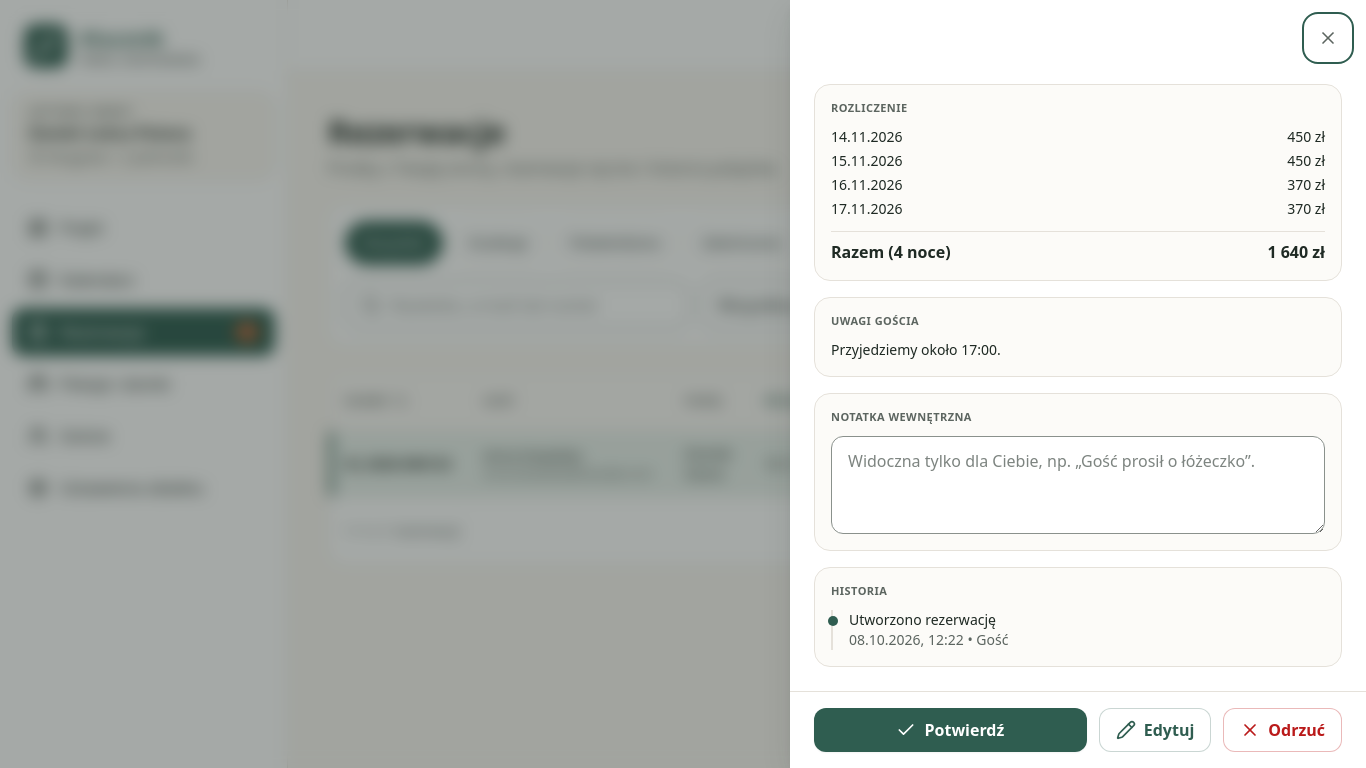
Scenario: ReservationsPage (O4) › saves the internal note with the current version
(page scrolled)
Type "Łóżeczko" into the text box named "Notatka wewnętrzna" at {"x": 1078, "y": 485}, box [831,436,1325,534]
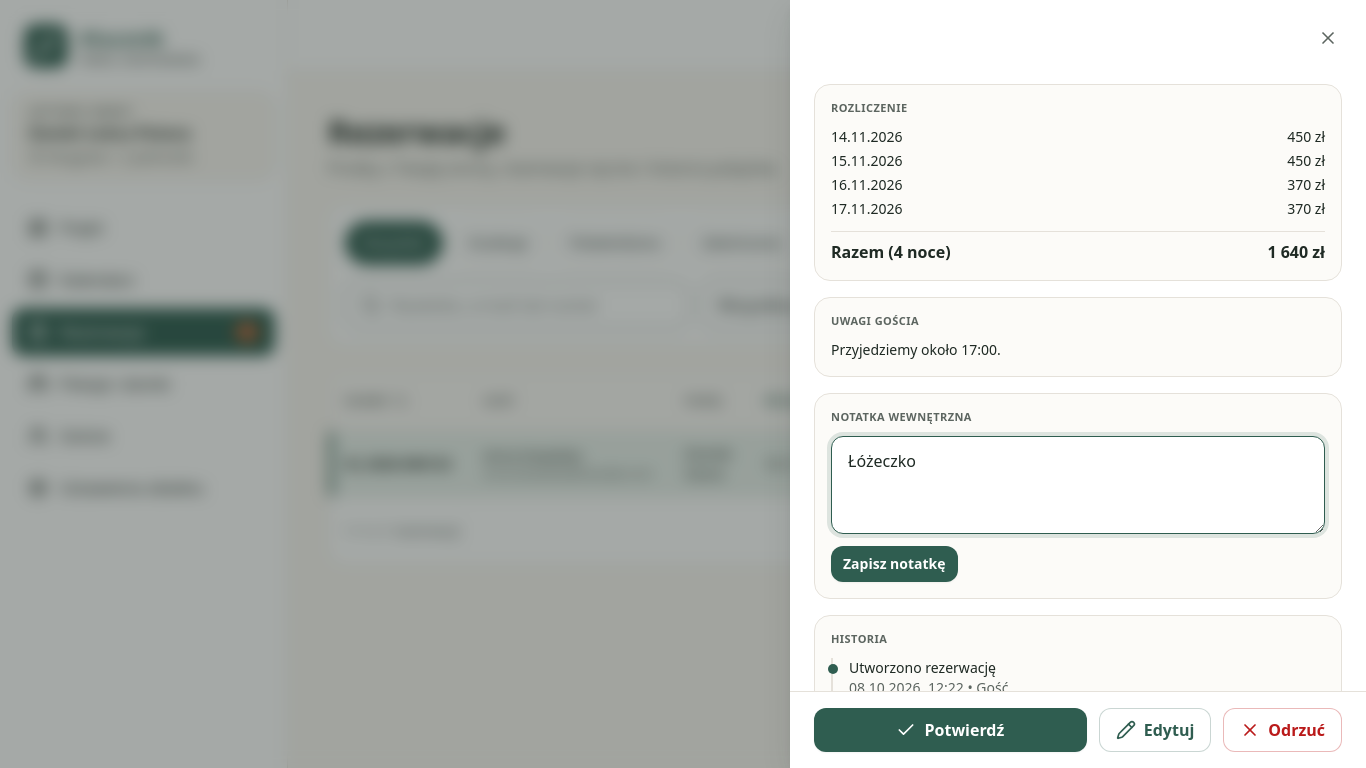
Click the button "Zapisz notatkę" at {"x": 894, "y": 564}, box [831,546,958,582]
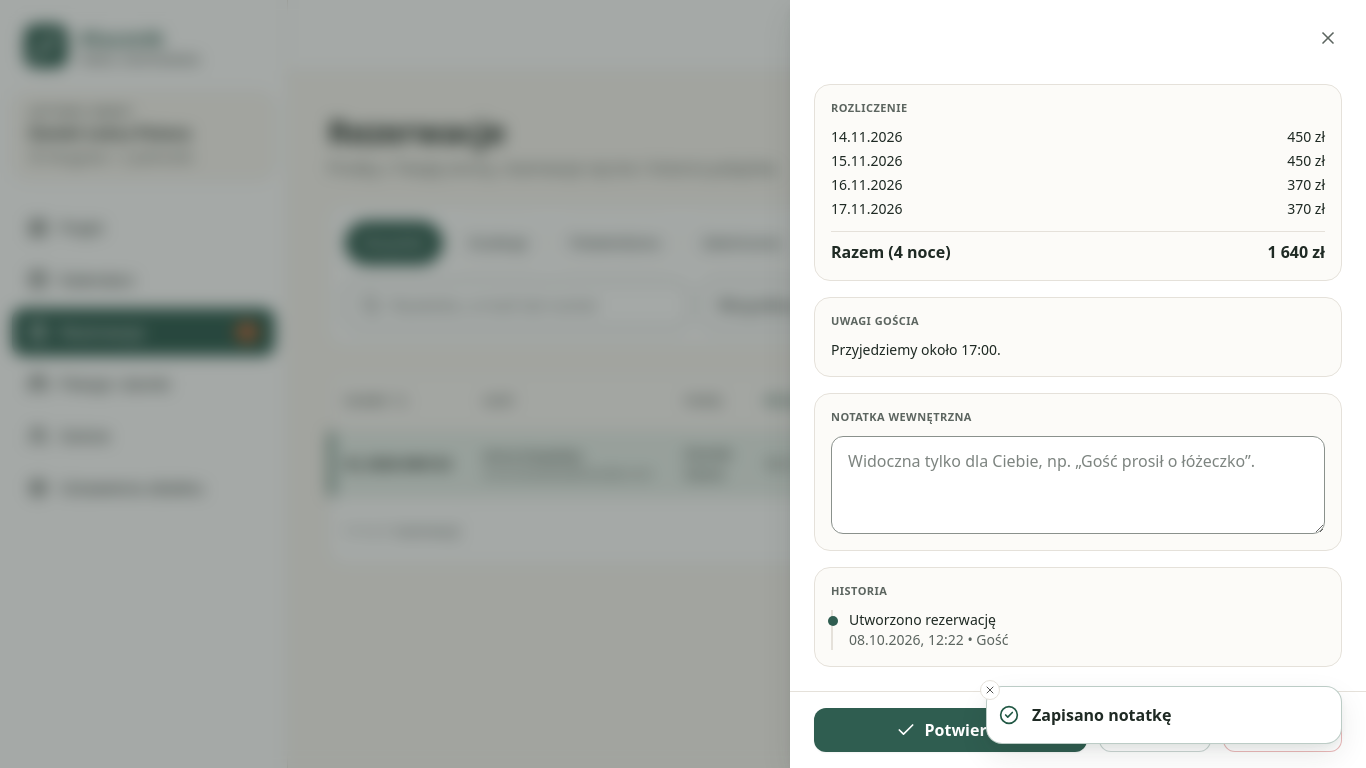
Expected: the text "Zapisano notatkę" is shown, [1032,703,1172,727]
